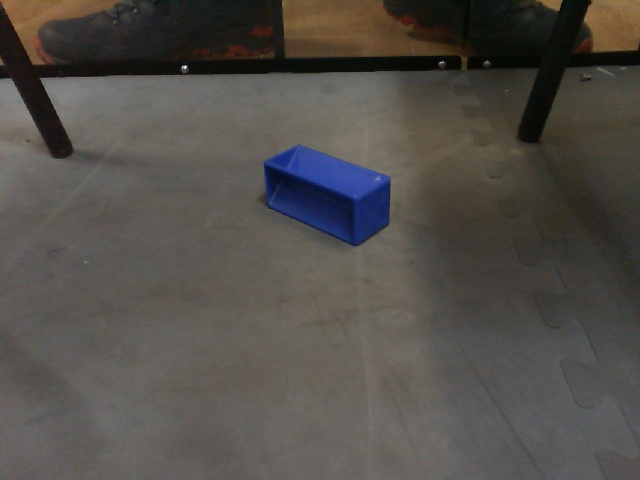BlueSample: (259, 141, 396, 250)
